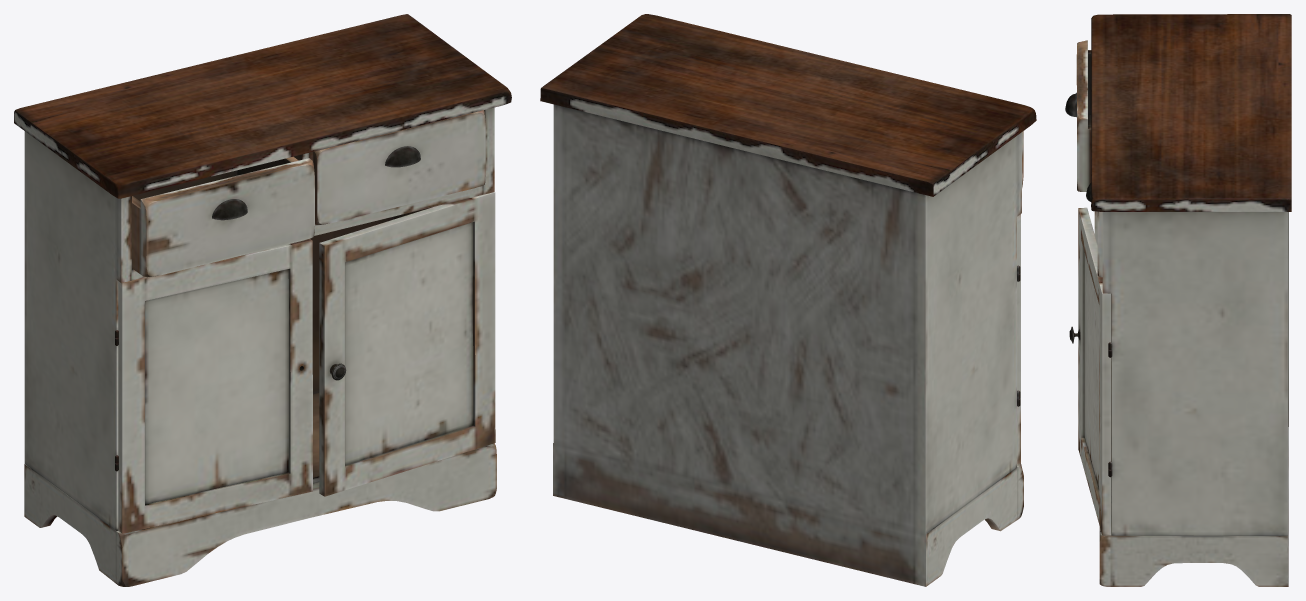
The model's file is detail.fbx.
3 views of the same model, side by side, from view 1: azimuth 30°, elevation 25°; view 2: azimuth 150°, elevation 25°; view 3: azimuth 270°, elevation 25° (orthographic). The views are drawn at different scales.
Parts seen in each view (by area): view 1: painted_wooden_cabinet, painted_wooden_cabinet_door_01, painted_wooden_cabinet_door_02, painted_wooden_cabinet_drawer_01, painted_wooden_cabinet_drawer_02; view 2: painted_wooden_cabinet, painted_wooden_cabinet_door_01; view 3: painted_wooden_cabinet, painted_wooden_cabinet_door_02, painted_wooden_cabinet_drawer_01, painted_wooden_cabinet_drawer_02.
Part boxes in pixels (bbox=[...]): painted_wooden_cabinet: bbox=[14, 14, 511, 586]; painted_wooden_cabinet_door_01: bbox=[118, 238, 312, 533]; painted_wooden_cabinet_door_02: bbox=[319, 192, 495, 496]; painted_wooden_cabinet_drawer_01: bbox=[132, 156, 314, 277]; painted_wooden_cabinet_drawer_02: bbox=[313, 110, 485, 224]; painted_wooden_cabinet: bbox=[540, 14, 1036, 586]; painted_wooden_cabinet_door_01: bbox=[1017, 214, 1020, 465]; painted_wooden_cabinet: bbox=[1091, 14, 1291, 586]; painted_wooden_cabinet_door_02: bbox=[1069, 207, 1110, 535]; painted_wooden_cabinet_drawer_01: bbox=[1065, 40, 1091, 191]; painted_wooden_cabinet_drawer_02: bbox=[1086, 183, 1102, 277].
Size of the model in its own units: 119 by 118 by 61.66.
